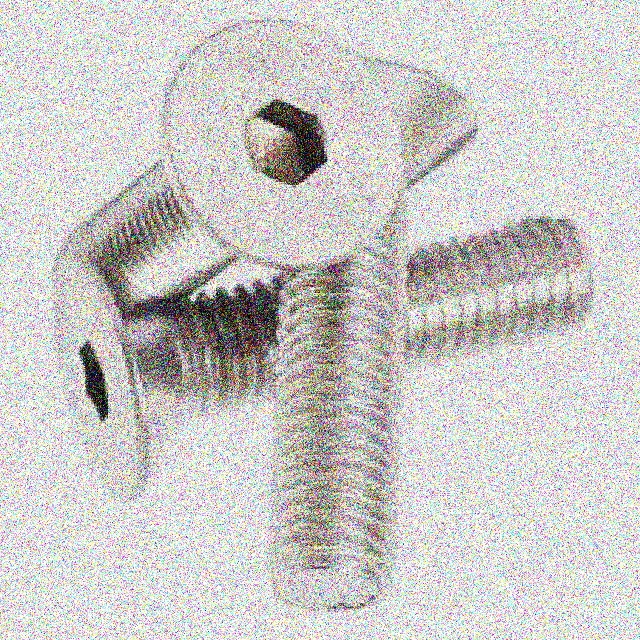allen: (162, 21, 408, 271), (49, 252, 151, 505)
